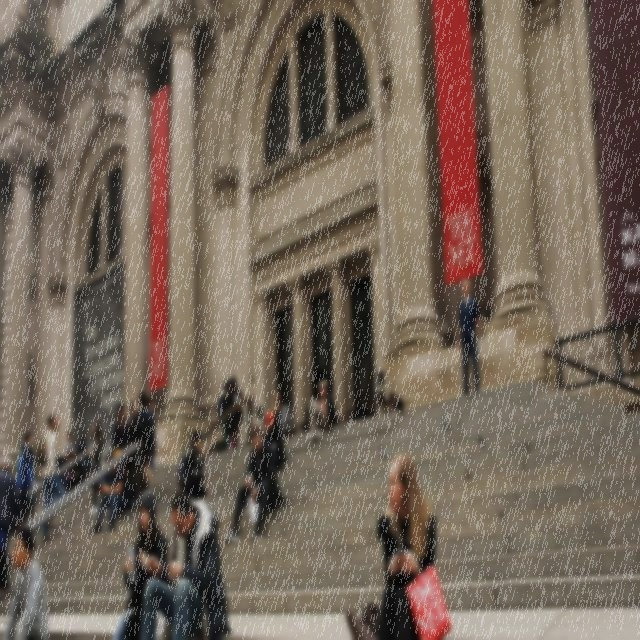pessoa: (139, 486, 233, 640), (376, 453, 438, 639), (110, 488, 170, 640), (221, 422, 285, 544), (0, 523, 50, 639), (84, 453, 132, 538), (34, 410, 64, 544), (0, 454, 25, 589), (457, 278, 482, 396), (130, 388, 156, 492), (177, 428, 210, 503), (310, 378, 340, 444), (57, 428, 90, 488), (16, 428, 34, 528), (88, 418, 106, 518), (261, 410, 287, 472), (224, 375, 243, 450), (269, 386, 293, 433), (144, 396, 156, 476), (111, 400, 128, 453), (221, 377, 231, 454), (125, 398, 138, 428), (388, 392, 404, 414), (28, 476, 40, 504), (378, 394, 392, 417)
